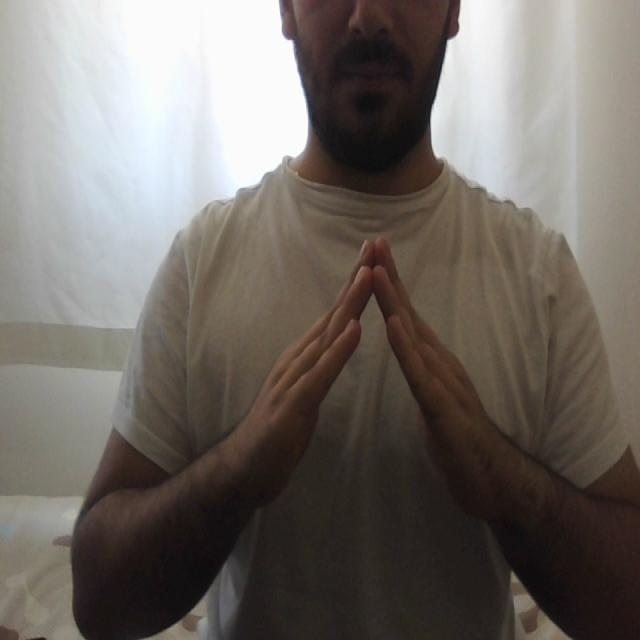Ev: (225, 227, 527, 530)
